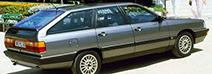back_view: (3, 31, 49, 70)
backlight: (23, 38, 48, 56)
side_glass: (47, 6, 165, 39)
